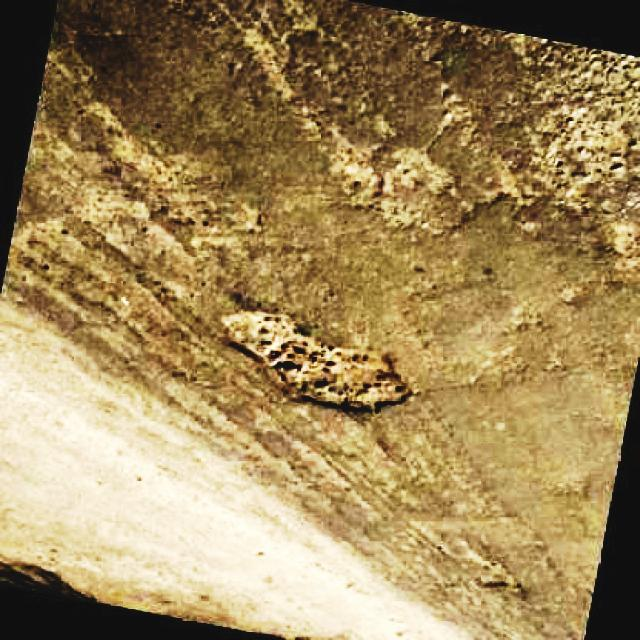pothole: (222, 306, 416, 414), (329, 143, 449, 203)
